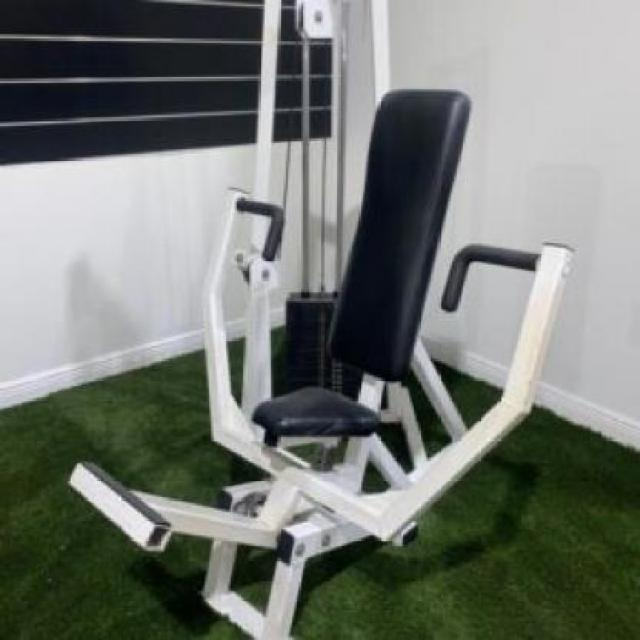Chest Press machine: (63, 0, 580, 640)
